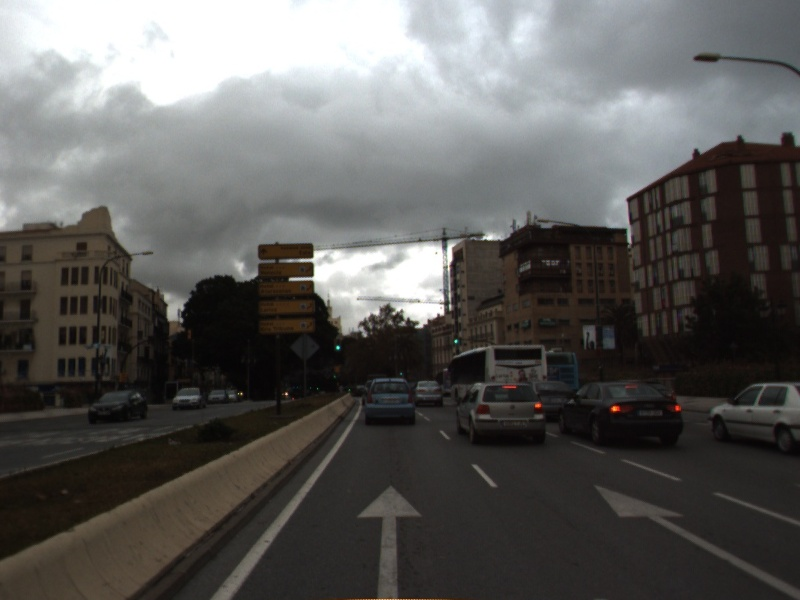STRAIGHT: (589, 480, 800, 600), (353, 481, 428, 600)
